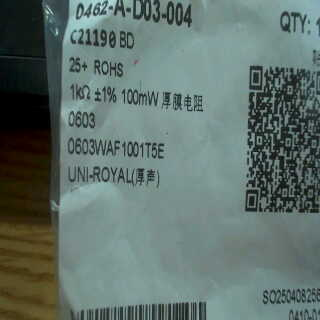1kR: (65, 81, 93, 104)
